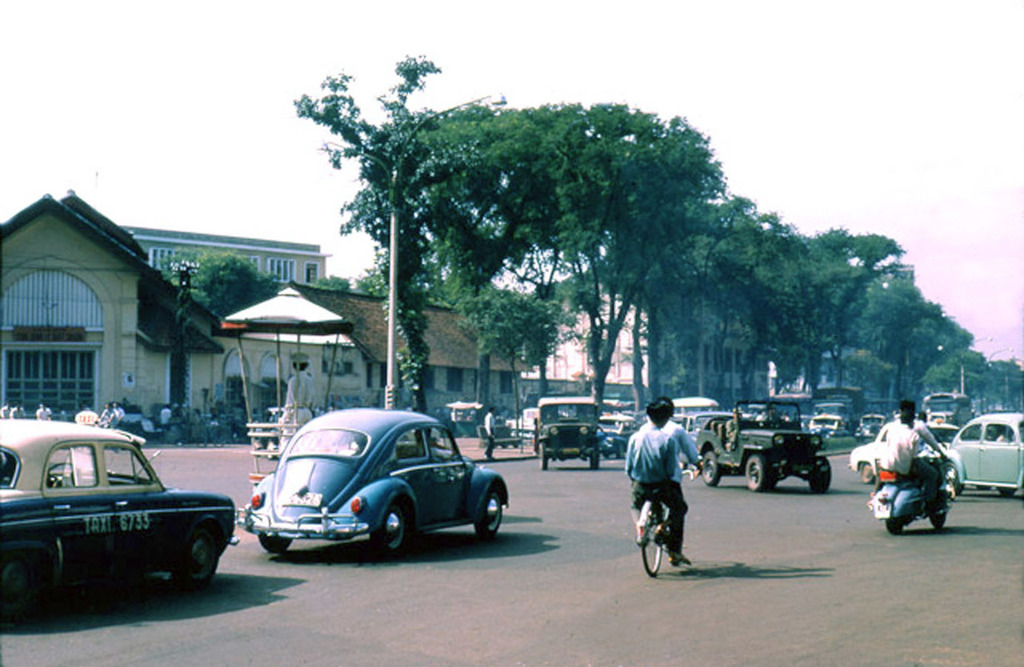Car: (0, 409, 240, 615), (228, 412, 517, 567), (692, 396, 831, 495), (844, 417, 963, 486), (931, 411, 1023, 498), (534, 396, 600, 472), (595, 413, 641, 457)
